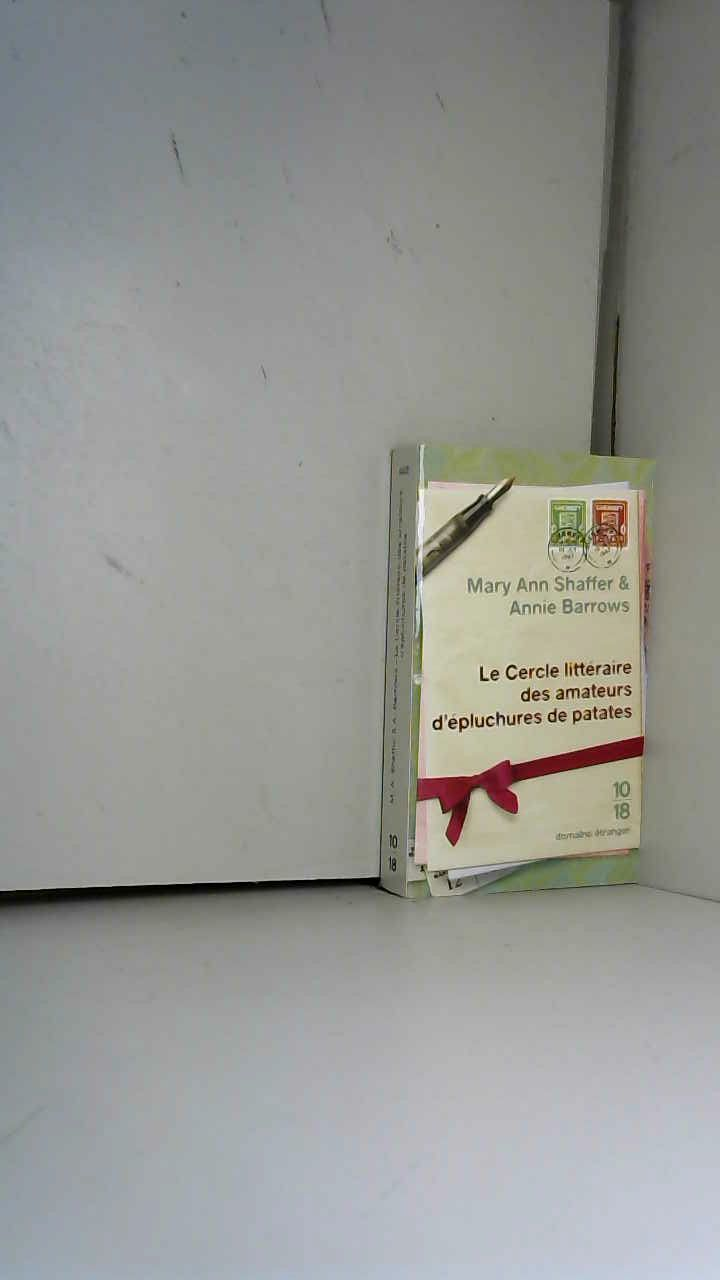book: (370, 430, 661, 911)
